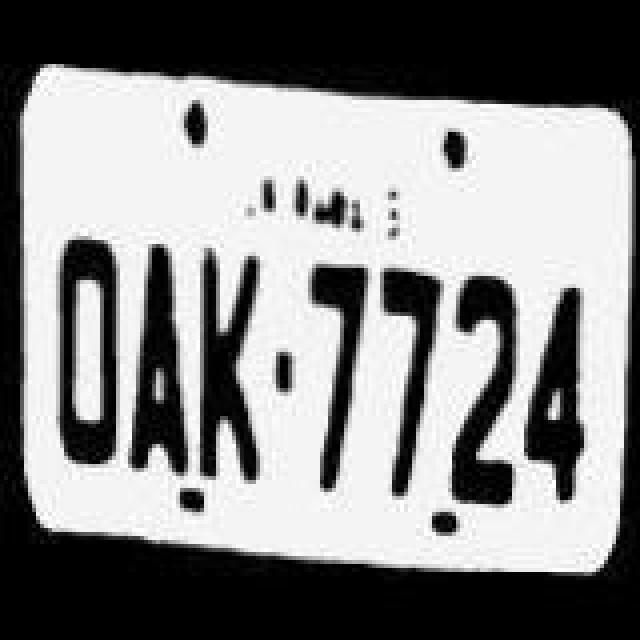2: (446, 268, 526, 512)
4: (522, 282, 594, 510)
7: (302, 252, 374, 496), (370, 256, 442, 500)
A: (124, 240, 192, 480)
K: (192, 242, 268, 490)
O: (48, 232, 124, 472)
